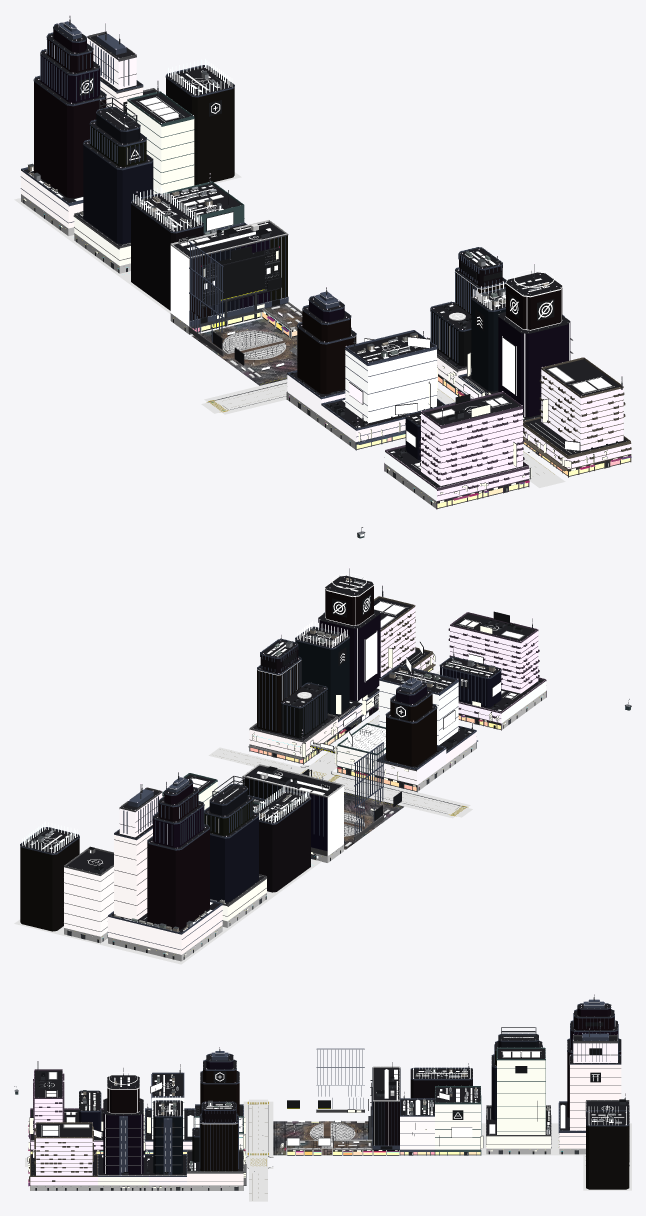
File: world-high-plaza.glb
3 renders of one model, top to bottom at view 1: azimuth 30°, elevation 25°; view 2: azimuth 150°, elevation 25°; view 3: azimuth 270°, elevation 25°, orthographic. The views are drawn at different scales.
Visible parts, largest first — view 1: plaza_corporate, plaza_facade, plaza_trim, plaza_roof, plaza_glow, plaza_board_frame, plaza_trim_detail, plaza_concrete, plaza_paint, plaza_metal, plaza_billboard, plaza_asphalt (+7 smaller); view 2: plaza_corporate, plaza_facade, plaza_trim, plaza_roof, plaza_glow, plaza_concrete, plaza_asphalt, plaza_trim_detail, plaza_board_frame, plaza_sidewalk, plaza_paint, plaza_steel (+5 smaller); view 3: plaza_facade, plaza_corporate, plaza_roof, plaza_trim, plaza_glow, plaza_trim_detail, plaza_concrete, plaza_paint, plaza_asphalt, plaza_board_frame, plaza_sidewalk, plaza_metal (+8 smaller).
Boxes of the visible parts, box(x1,y1,x2,y2) form: plaza_corporate: box(34, 29, 570, 459); plaza_facade: box(21, 38, 630, 501); plaza_trim: box(21, 21, 631, 509); plaza_roof: box(24, 24, 627, 487); plaza_glow: box(23, 14, 628, 488); plaza_board_frame: box(61, 77, 607, 502); plaza_trim_detail: box(20, 54, 631, 489); plaza_concrete: box(21, 194, 465, 508); plaza_paint: box(192, 303, 554, 475); plaza_metal: box(69, 16, 622, 485); plaza_billboard: box(204, 212, 579, 450); plaza_asphalt: box(201, 383, 565, 487); plaza_corporate: box(20, 586, 501, 931); plaza_facade: box(64, 607, 546, 954); plaza_trim: box(20, 596, 546, 934); plaza_roof: box(21, 575, 543, 932); plaza_glow: box(20, 567, 544, 931); plaza_concrete: box(64, 691, 545, 961); plaza_asphalt: box(208, 670, 472, 817); plaza_trim_detail: box(63, 611, 539, 950); plaza_board_frame: box(184, 594, 543, 955); plaza_sidewalk: box(14, 670, 500, 964); plaza_paint: box(219, 715, 465, 849); plaza_steel: box(31, 578, 495, 931); plaza_facade: box(30, 1043, 621, 1185); plaza_corporate: box(79, 1008, 629, 1189); plaza_roof: box(31, 1004, 629, 1175); plaza_trim: box(30, 999, 629, 1190); plaza_glow: box(30, 993, 626, 1186); plaza_trim_detail: box(29, 1052, 629, 1181); plaza_concrete: box(30, 1066, 585, 1190); plaza_paint: box(249, 1102, 372, 1200); plaza_asphalt: box(25, 1099, 272, 1201); plaza_board_frame: box(27, 1022, 603, 1187); plaza_sidewalk: box(95, 1101, 631, 1190); plaza_metal: box(32, 994, 625, 1175).
Bounding box in the file's own units: 191 × 120 × 458.
